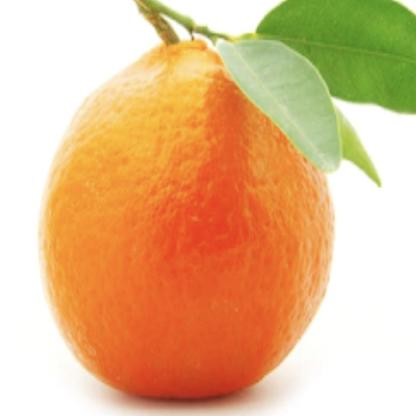fresh: (42, 39, 333, 399)
